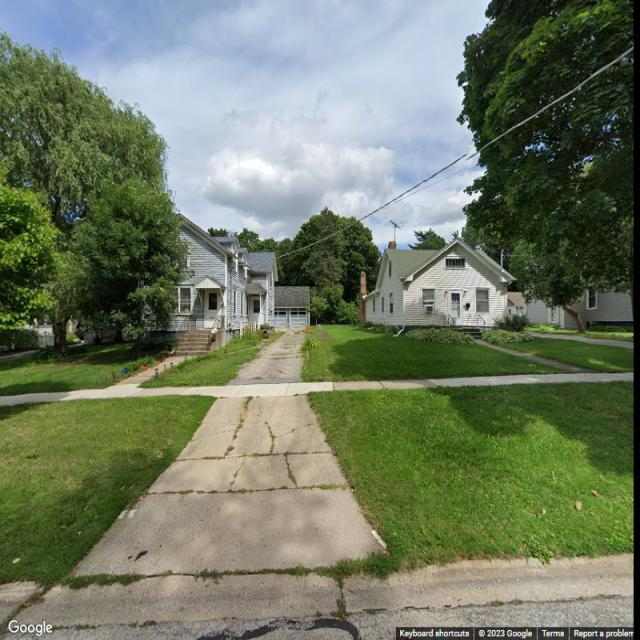House: (140, 210, 308, 355), (359, 240, 514, 340), (528, 262, 633, 329)
